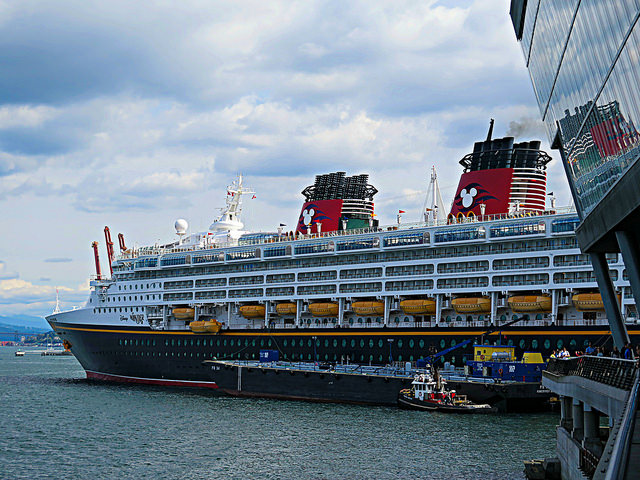boat: (200, 343, 536, 410)
cruise_ship: (41, 165, 554, 405)
tug_boat: (402, 362, 491, 419)
